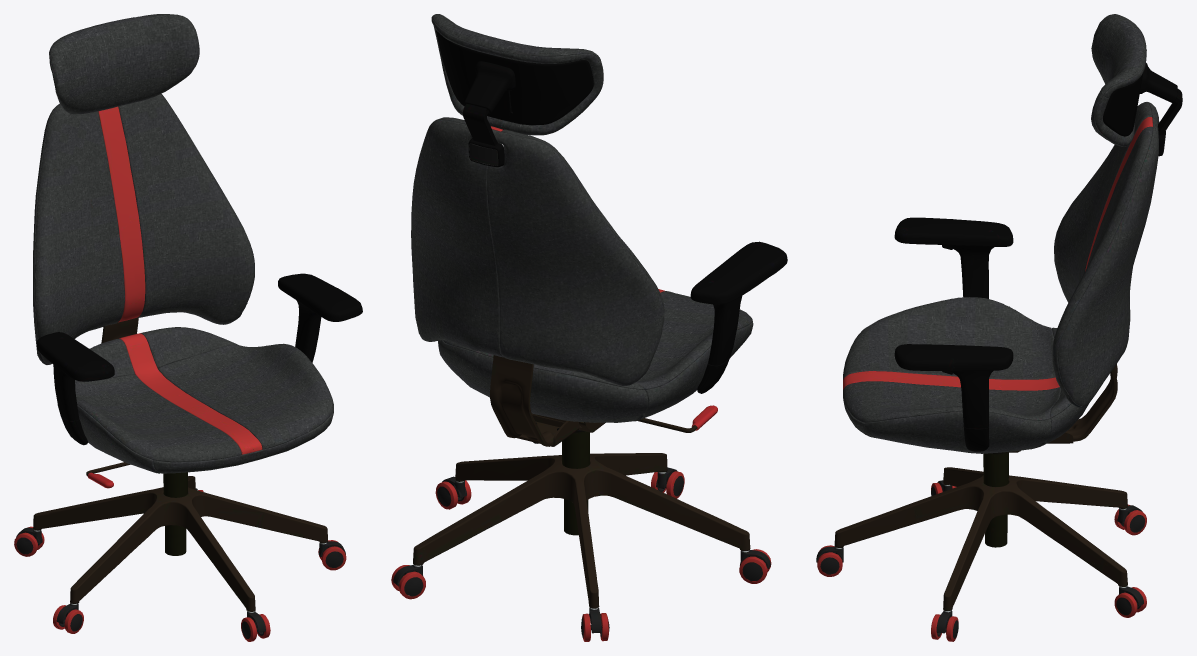
Rendered from GRUPPSPEL_30507559.glb.
3 renders of one model, left to right at view 1: azimuth 30°, elevation 25°; view 2: azimuth 150°, elevation 25°; view 3: azimuth 270°, elevation 25°, orthographic. The views are drawn at different scales.
Visible parts, largest first — view 1: model; view 2: model; view 3: model.
Part boxes in pixels (x1,y1,x2,y2): model: (14, 14, 362, 641); model: (391, 14, 787, 641); model: (816, 14, 1182, 641).
Bounding box in the file's own units: 0.6878 × 1.15 × 0.7254.
1 material, 1 textured.
